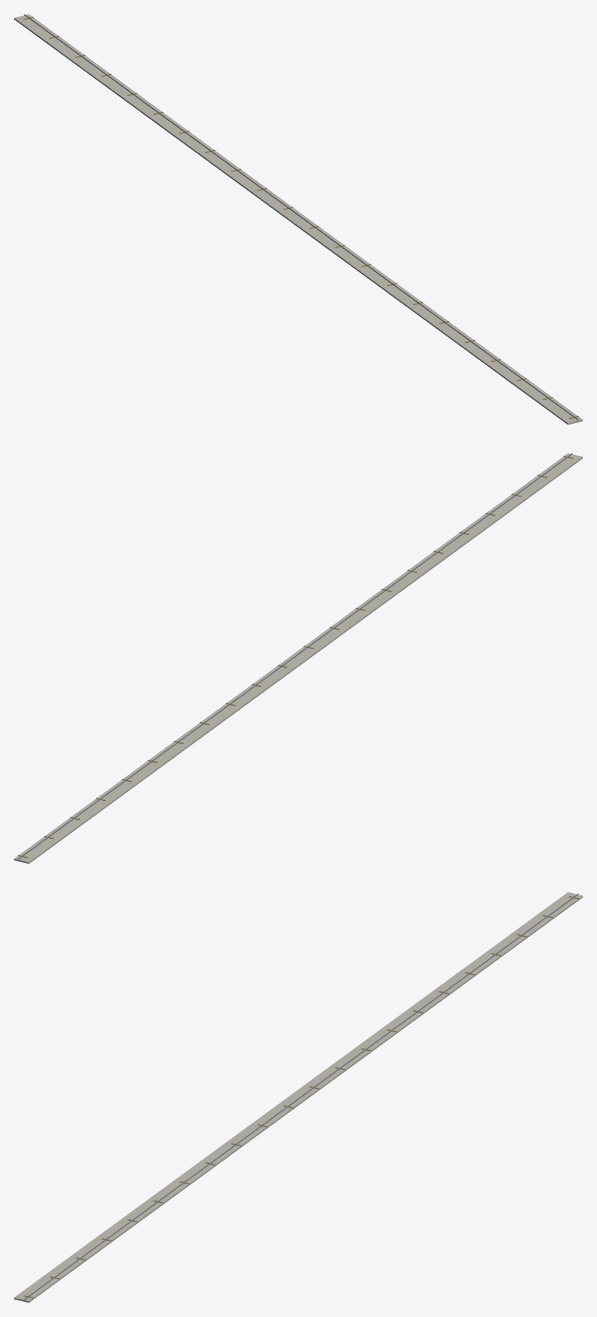
File: valley-7-4.glb
3 renders of one model, top to bottom at view 1: azimuth 30°, elevation 25°; view 2: azimuth 150°, elevation 25°; view 3: azimuth 330°, elevation 25°, orthographic.
Visible parts, largest first — view 1: valley-7-4; view 2: valley-7-4; view 3: valley-7-4.
Boxes of the visible parts, x1,y1,x2,y2 form: valley-7-4: [14, 14, 582, 424]; valley-7-4: [14, 453, 582, 863]; valley-7-4: [14, 892, 582, 1302].
Bounding box in the file's own units: 4 × 0.7 × 256.
